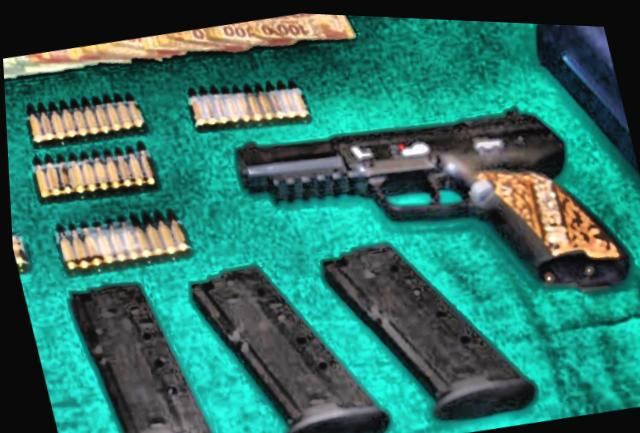pistol: (218, 57, 636, 350)
